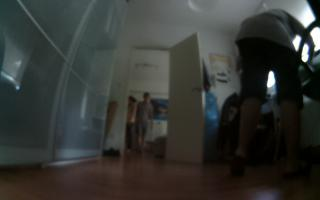person: (228, 5, 315, 177), (137, 89, 154, 157), (126, 94, 138, 157)
